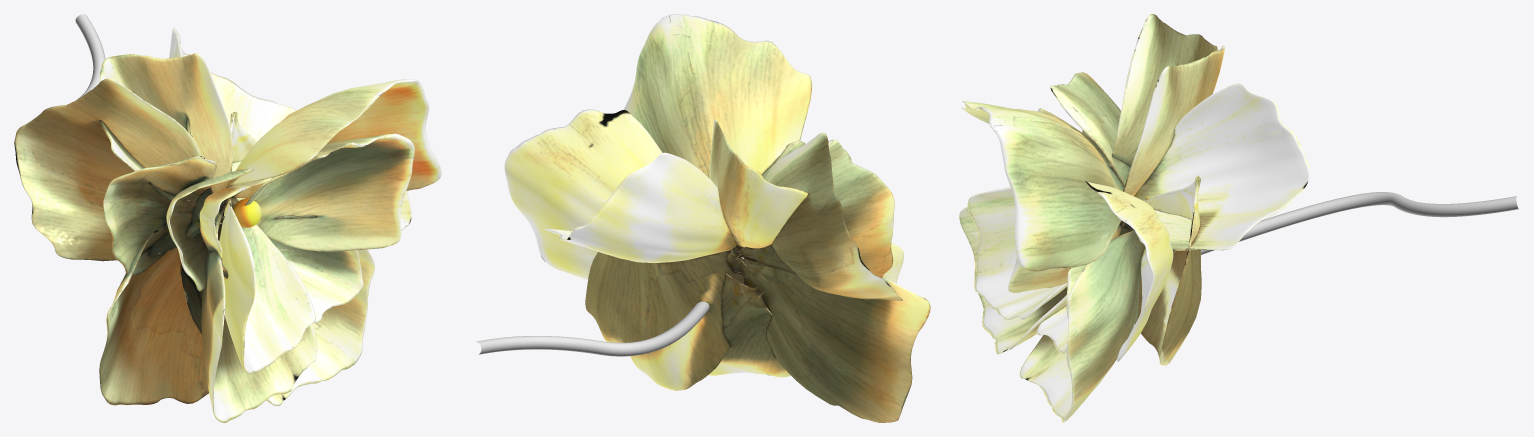
Rendered from mainflower.glb.
The picture shows the model from 3 angles, left to right: view 1: azimuth 30°, elevation 25°; view 2: azimuth 150°, elevation 25°; view 3: azimuth 270°, elevation 25°; orthographic projection. The views are drawn at different scales.
Visible parts, largest first — view 1: Plane.011, NurbsPath, Sphere; view 2: Plane.011, NurbsPath; view 3: Plane.011, NurbsPath.
Boxes of the visible parts, x1,y1,x2,y2 form: Plane.011: [14, 28, 441, 422]; NurbsPath: [75, 14, 105, 99]; Sphere: [233, 198, 261, 227]; Plane.011: [504, 14, 930, 422]; NurbsPath: [476, 301, 709, 356]; Plane.011: [959, 14, 1309, 422]; NurbsPath: [1201, 192, 1518, 254].
Bounding box in the file's own units: 1.24 × 0.9781 × 1.57.
Materials: 2 (2 with a texture image).
